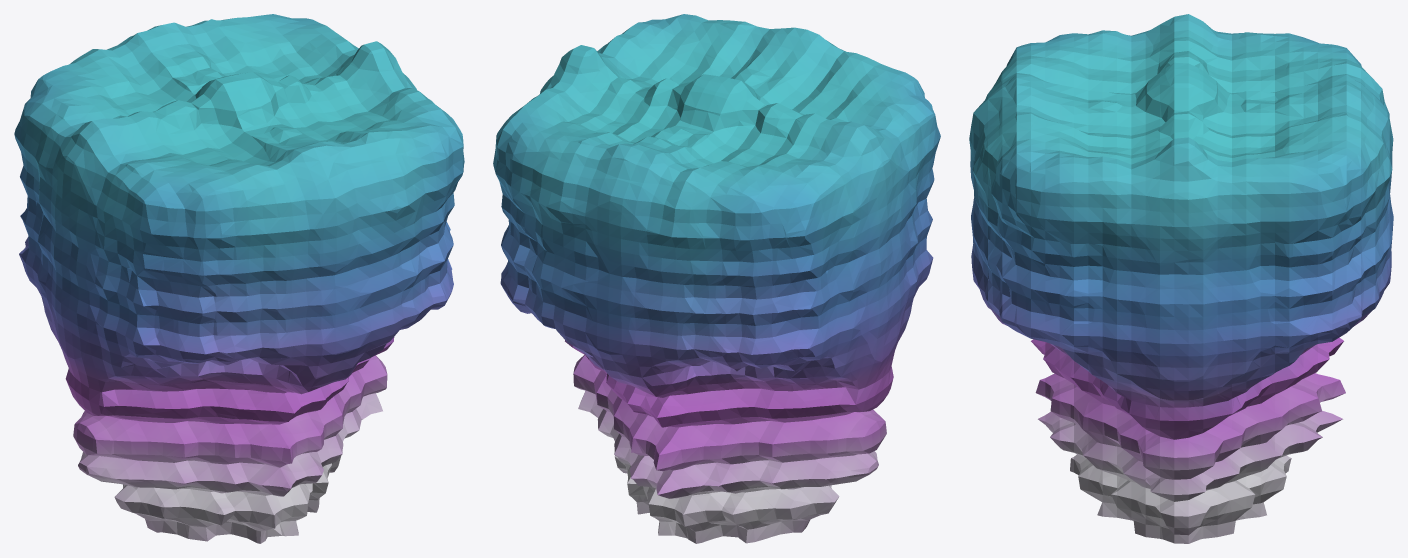
The picture shows the model from 3 angles, left to right: view 1: azimuth 30°, elevation 25°; view 2: azimuth 150°, elevation 25°; view 3: azimuth 270°, elevation 25°; orthographic projection.
Visible parts, largest first — view 1: geometry_0; view 2: geometry_0; view 3: geometry_0.
Part boxes in pixels (bbox=[...]): geometry_0: bbox=[14, 14, 464, 543]; geometry_0: bbox=[493, 14, 940, 543]; geometry_0: bbox=[969, 14, 1393, 543].
Bounding box in the file's own units: 1.19 × 1.46 × 1.26.
